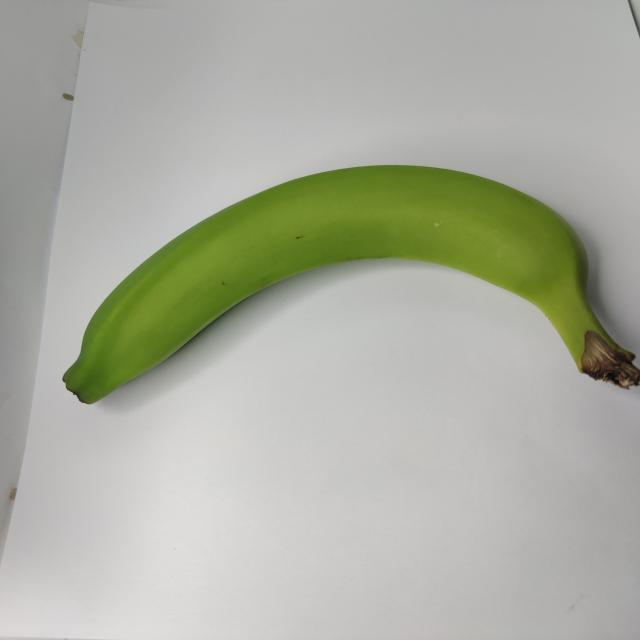raw: (36, 130, 640, 448)
